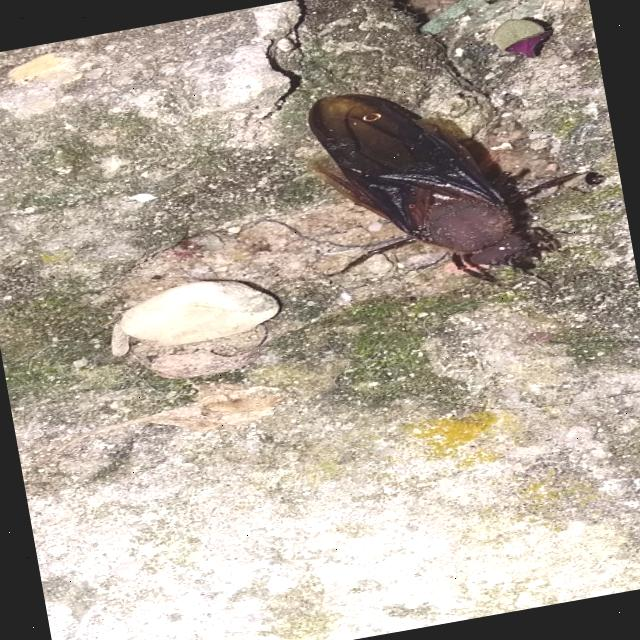Alive-Female-Alate: (287, 53, 604, 313)
